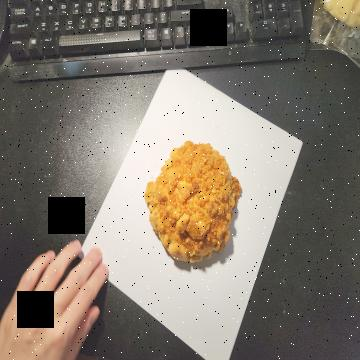soboru_bread: (144, 142, 241, 262)
